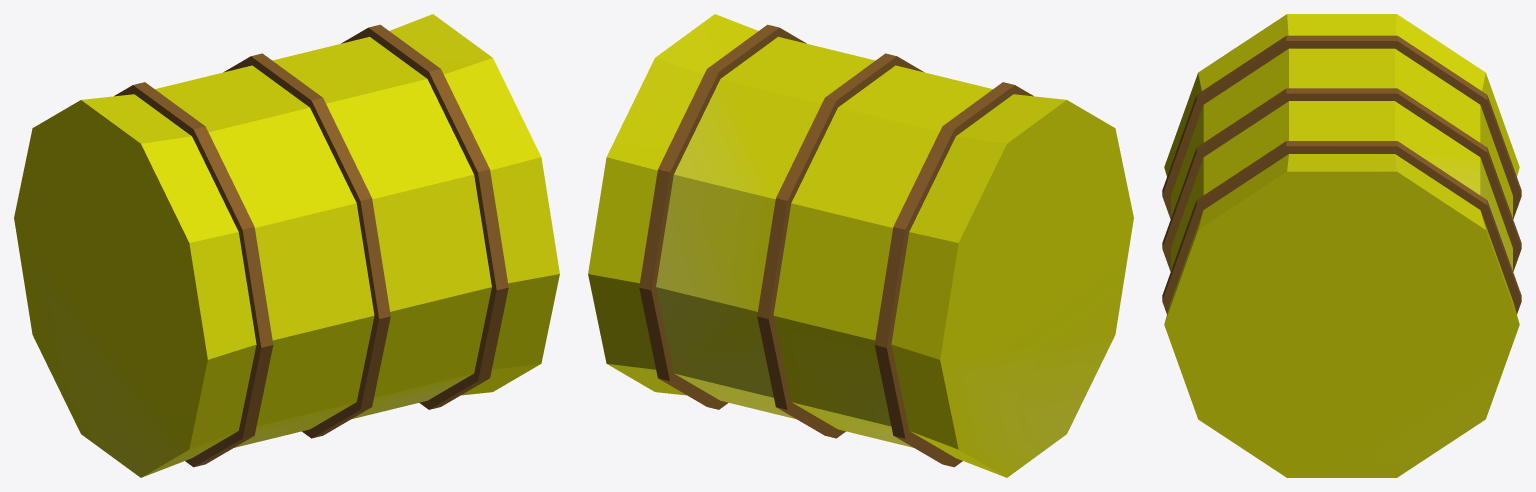
Rendered from BigRoundHay.fbx.
3 views of the same model, side by side, from view 1: azimuth 30°, elevation 25°; view 2: azimuth 150°, elevation 25°; view 3: azimuth 270°, elevation 25° (orthographic). The views are drawn at different scales.
Parts seen in each view (by area): view 1: bigRoundHay; view 2: bigRoundHay; view 3: bigRoundHay.
Part boxes in pixels (x1=…): bigRoundHay: x1=14, y1=14, x2=559, y2=477; bigRoundHay: x1=588, y1=14, x2=1133, y2=477; bigRoundHay: x1=1162, y1=14, x2=1521, y2=477.
Size of the model in its own units: 272 by 250 by 263.
